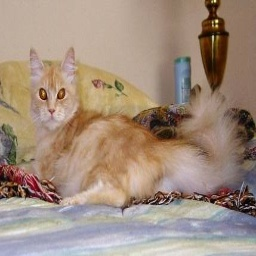cat: (21, 41, 243, 215)
